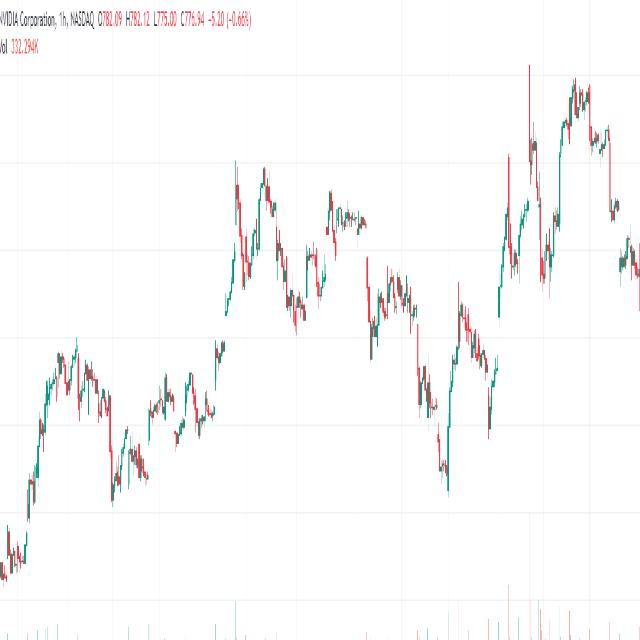Rounding-Top: (32, 331, 115, 474)
